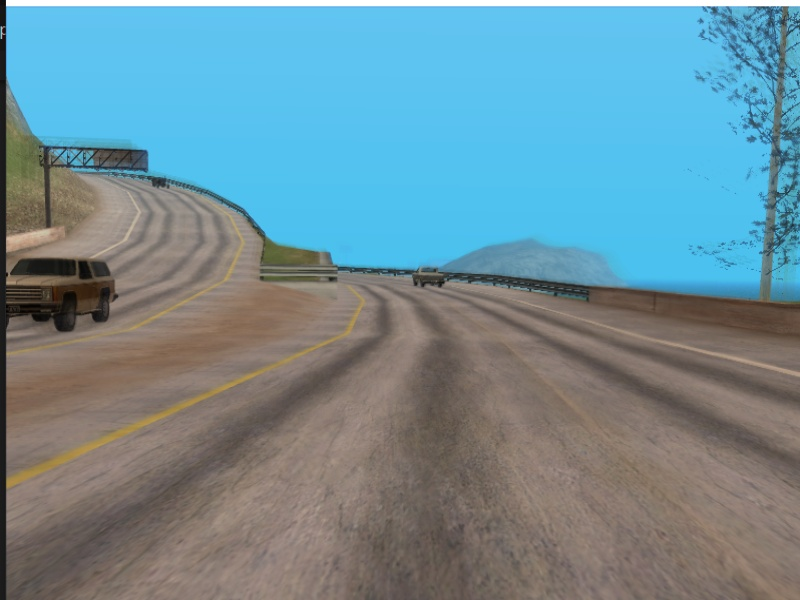vehicle: (3, 251, 122, 338), (405, 264, 450, 290)
